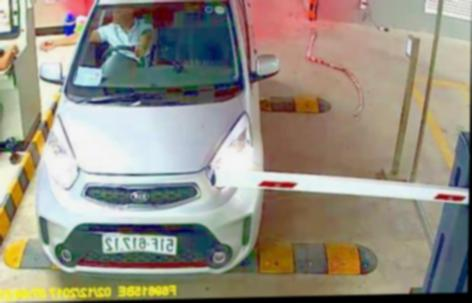License_Plate: (98, 231, 179, 257)
